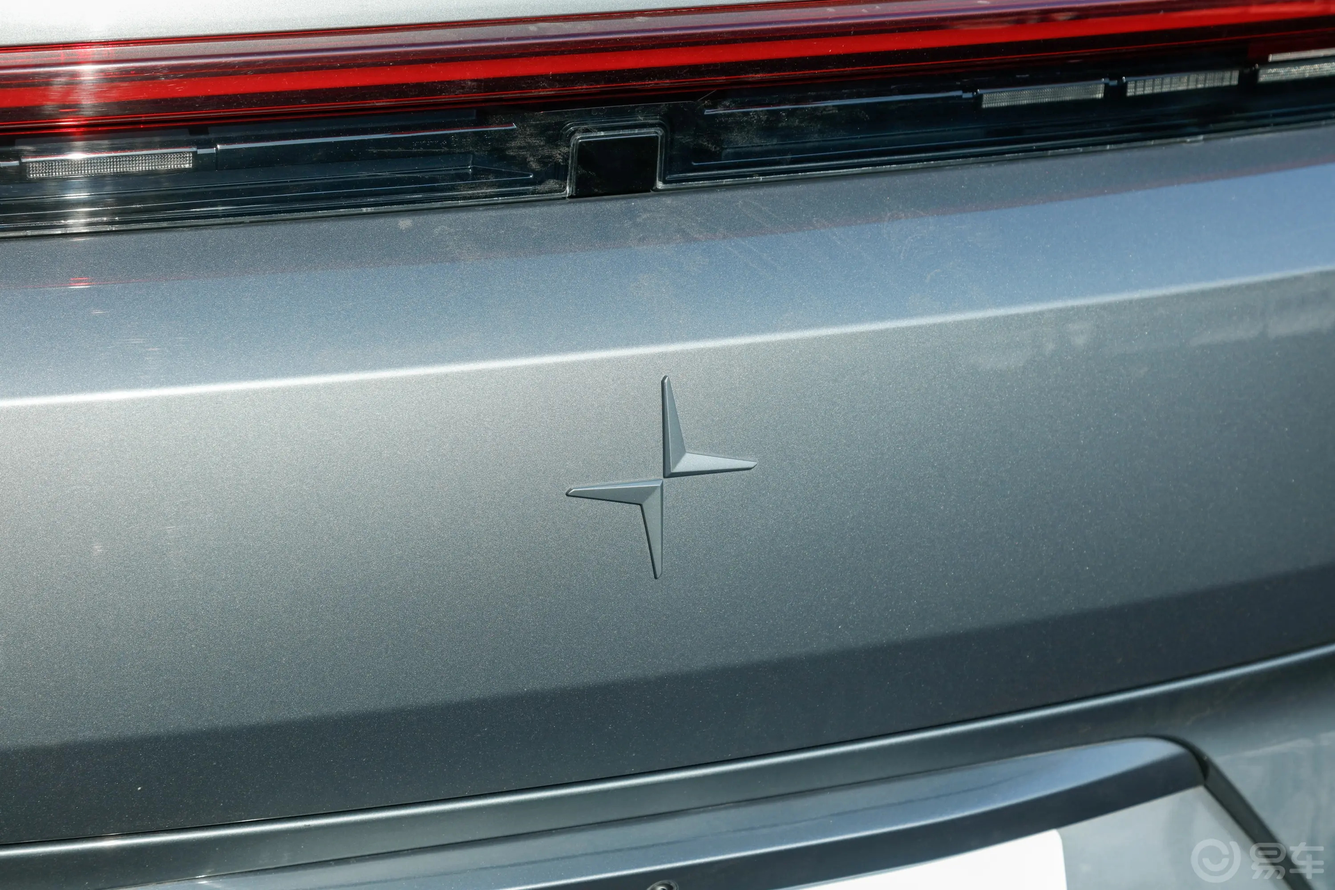Polestar: (566, 376, 756, 578)
